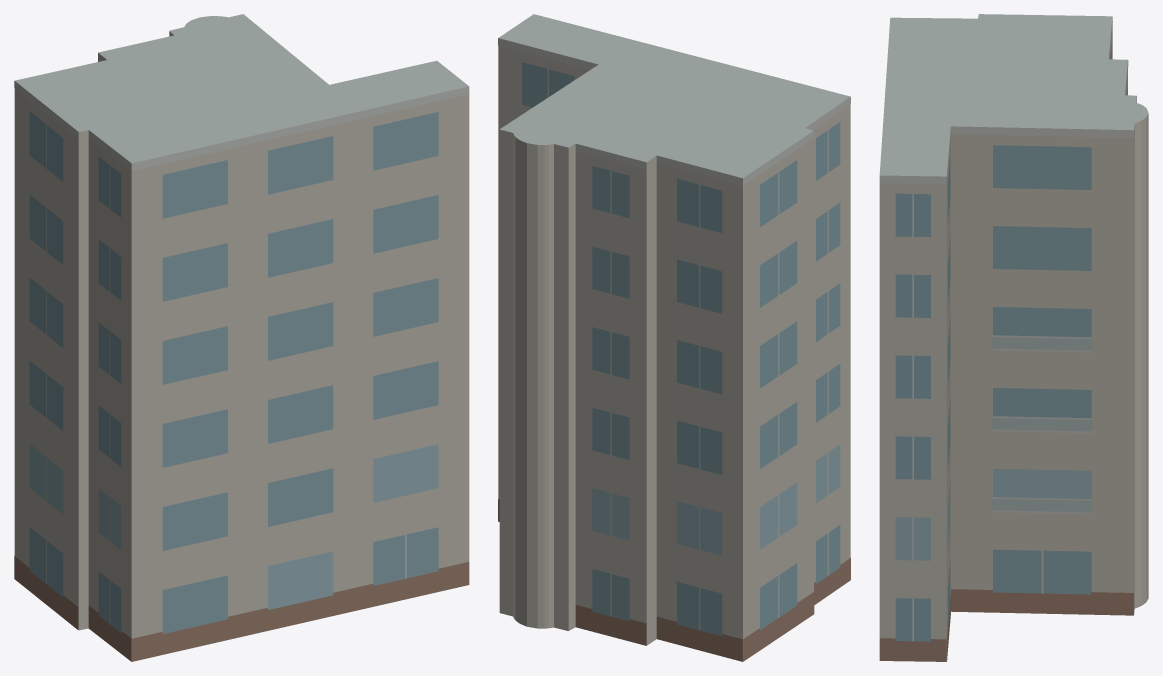
The model's file is survey-upis-32934237.glb.
3 renders of one model, left to right at view 1: azimuth 30°, elevation 25°; view 2: azimuth 150°, elevation 25°; view 3: azimuth 270°, elevation 25°, orthographic. The views are drawn at different scales.
Visible parts, largest first — view 1: survey-upis-32934237.tmp; view 2: survey-upis-32934237.tmp; view 3: survey-upis-32934237.tmp.
Part boxes in pixels (x1=…): survey-upis-32934237.tmp: x1=14, y1=14, x2=469, y2=661; survey-upis-32934237.tmp: x1=498, y1=14, x2=850, y2=661; survey-upis-32934237.tmp: x1=879, y1=14, x2=1148, y2=661.
Size of the model in its own units: 11.21 by 15.6 by 7.84.
